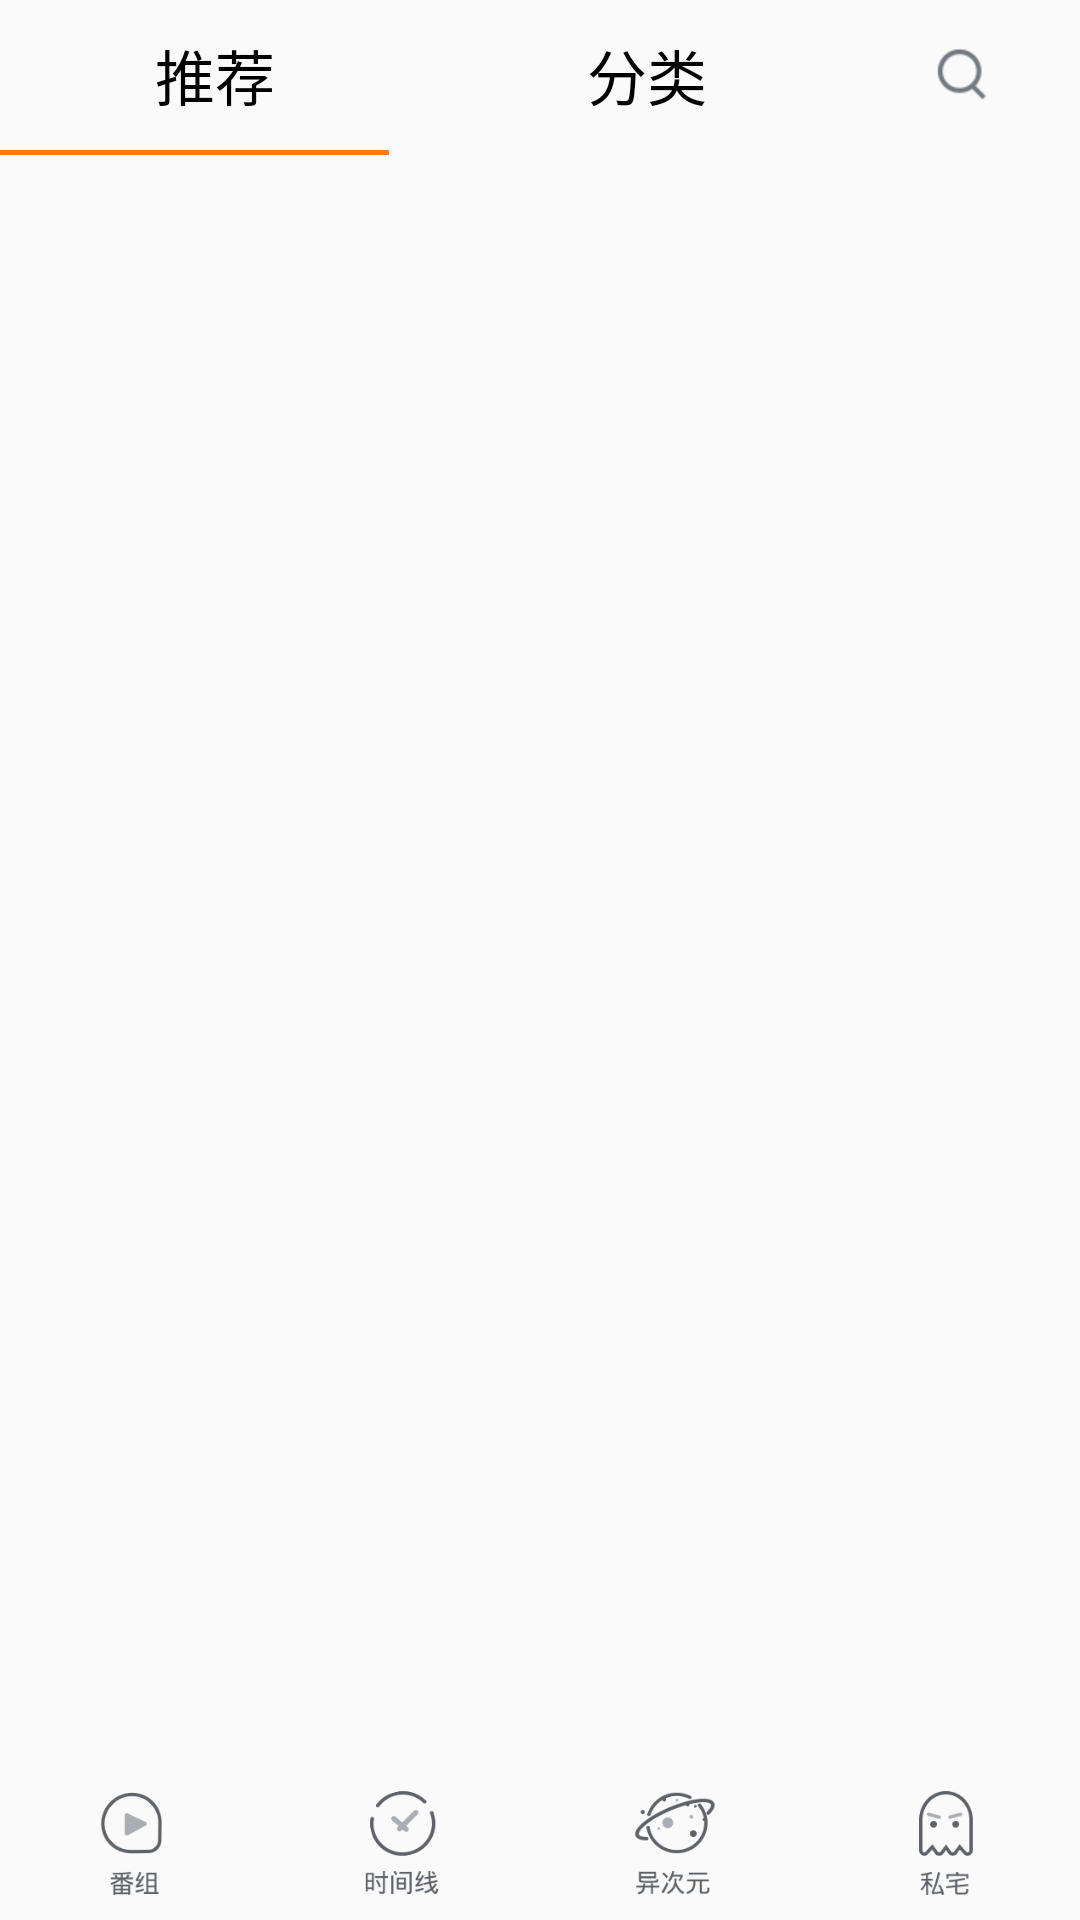

Icon click points for this 1080*1920 phone screenshot, format (x=x, y=y):
search: (x=961, y=74)
